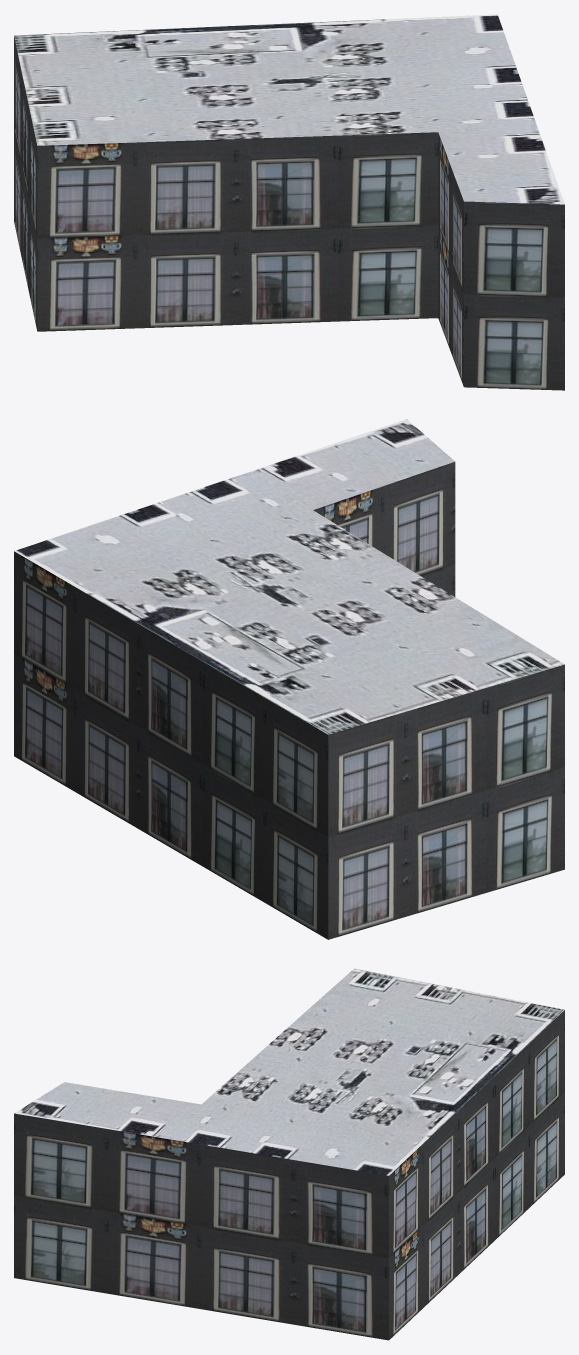
File: ResTex__2536.fbx
3 views of the same model, one above another, from view 1: azimuth 30°, elevation 25°; view 2: azimuth 150°, elevation 25°; view 3: azimuth 270°, elevation 25° (orthographic). The views are drawn at different scales.
Visible parts, largest first — view 1: CityEngineMaterial_22_m, CityEngineMaterial_8_m; view 2: CityEngineMaterial_22_m, CityEngineMaterial_8_m; view 3: CityEngineMaterial_22_m, CityEngineMaterial_8_m.
Part boxes in pixels (x1,y1,x2,y2): CityEngineMaterial_22_m: (14,36,564,390); CityEngineMaterial_8_m: (14,14,564,204); CityEngineMaterial_22_m: (14,462,564,939); CityEngineMaterial_8_m: (14,419,564,734); CityEngineMaterial_22_m: (14,1010,564,1340); CityEngineMaterial_8_m: (14,968,564,1175).
Size of the model in its own units: 16.21 by 6 by 18.2.
Materials: 2 (2 with a texture image).
